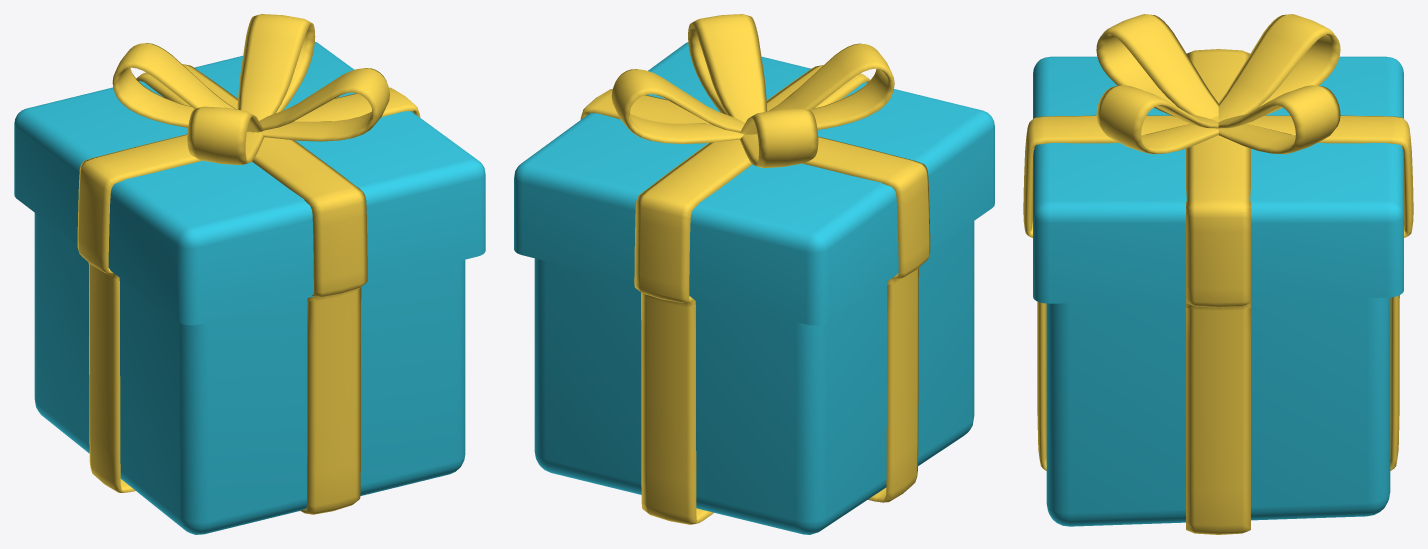
Rendered from hediyeKutu.fbx.
The picture shows the model from 3 angles, left to right: view 1: azimuth 30°, elevation 25°; view 2: azimuth 150°, elevation 25°; view 3: azimuth 270°, elevation 25°; orthographic projection. The views are drawn at different scales.
Parts seen in each view (by area): view 1: kutuAlt, kutuUst, kurdela, kurdela.001; view 2: kutuAlt, kutuUst, kurdela, kurdela.001; view 3: kutuAlt, kutuUst, kurdela, kurdela.001.
Boxes of the visible parts, x1,y1,x2,y2 form: kutuAlt: (34,213,465,534); kutuUst: (14,41,485,325); kurdela: (77,14,420,301); kurdela.001: (88,263,361,514); kutuAlt: (534,221,974,534); kutuUst: (514,42,994,325); kurdela: (580,14,930,306); kurdela.001: (641,268,918,524); kutuAlt: (1046,297,1390,526); kutuUst: (1033,56,1403,303); kurdela: (1023,14,1413,310); kurdela.001: (1037,295,1399,534).
Bounding box in the file's own units: 227 × 262 × 227.
